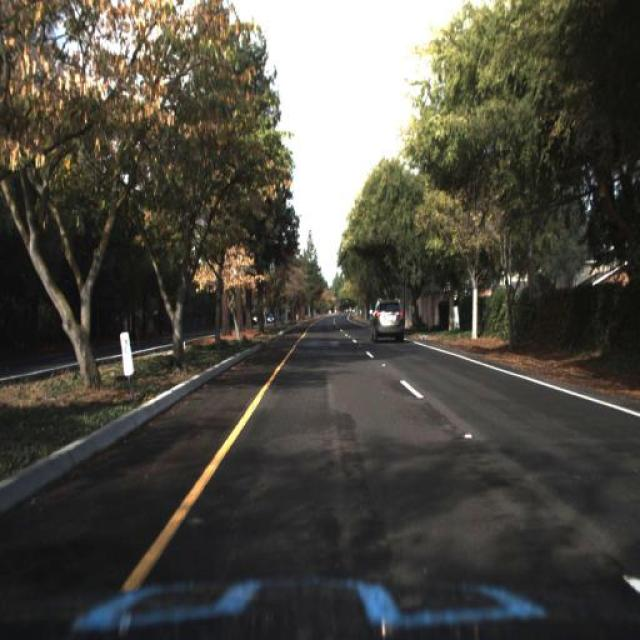car: (366, 294, 406, 344)
